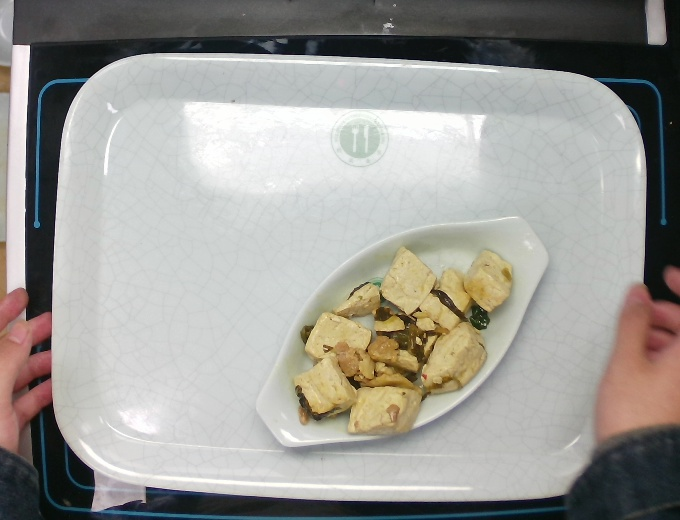JYsf-Yu_Pan: (251, 208, 557, 458)
